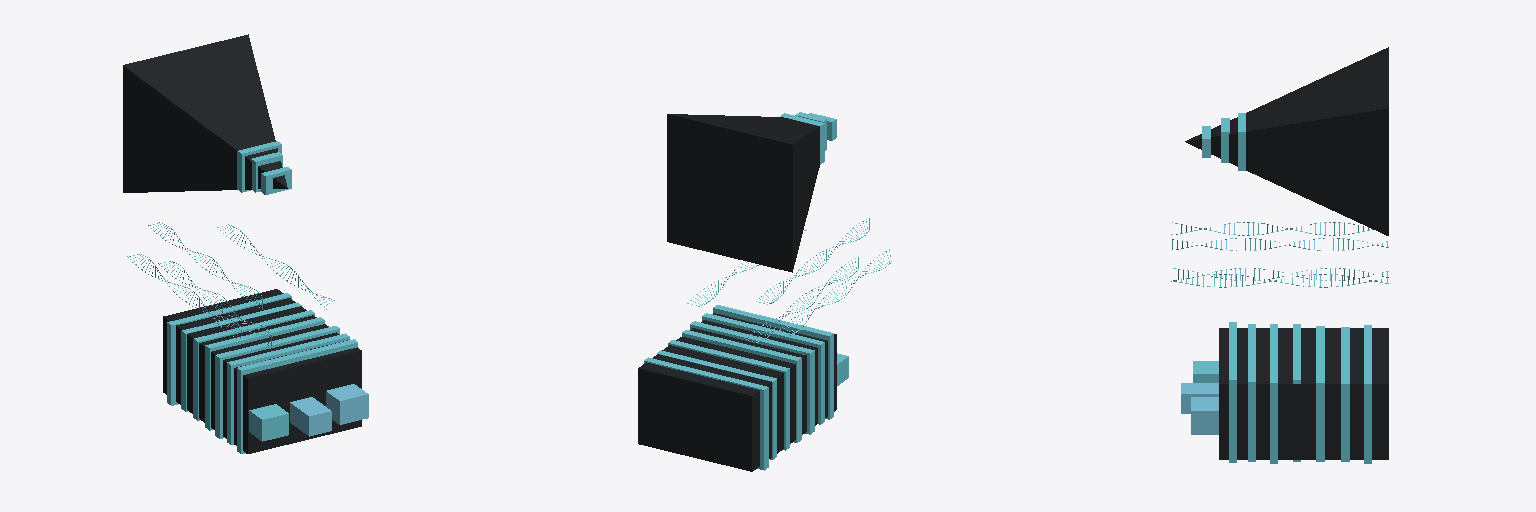
Rendered from tinker.obj.
The picture shows the model from 3 angles: view 1: azimuth 30°, elevation 25°; view 2: azimuth 150°, elevation 25°; view 3: azimuth 270°, elevation 25°; orthographic projection.
Visible parts, largest first — view 1: obj_0; view 2: obj_0; view 3: obj_0.
Part boxes in pixels (left/top/right/bottom): obj_0: left=123, top=34, right=368, bottom=453; obj_0: left=638, top=112, right=891, bottom=471; obj_0: left=1171, top=47, right=1388, bottom=463.
Size of the model in its own units: 418 by 862 by 500.